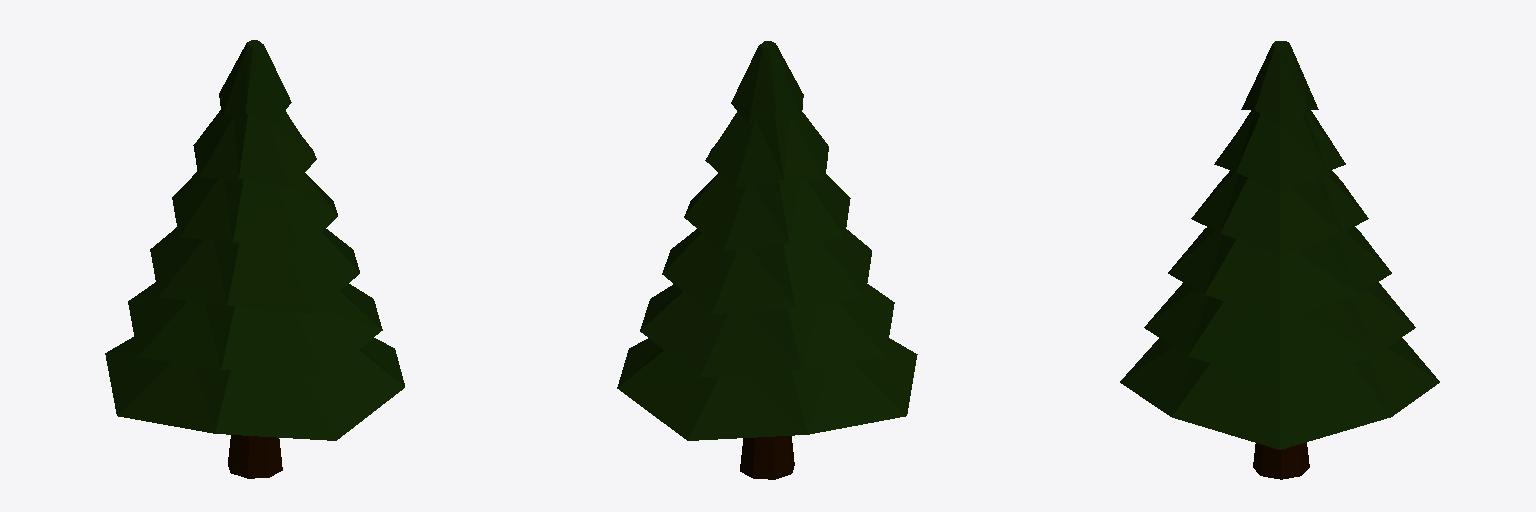
File: tree.obj
The picture shows the model from 3 angles: view 1: azimuth 30°, elevation 25°; view 2: azimuth 150°, elevation 25°; view 3: azimuth 270°, elevation 25°; orthographic projection.
Visible parts, largest first — view 1: Cylinder.001_Cylinder.001; view 2: Cylinder.001_Cylinder.001; view 3: Cylinder.001_Cylinder.001.
Part boxes in pixels (bbox=[...]): Cylinder.001_Cylinder.001: bbox=[105, 40, 404, 478]; Cylinder.001_Cylinder.001: bbox=[617, 41, 917, 479]; Cylinder.001_Cylinder.001: bbox=[1120, 41, 1439, 479].
Size of the model in its own units: 1.11 by 1.61 by 1.11.